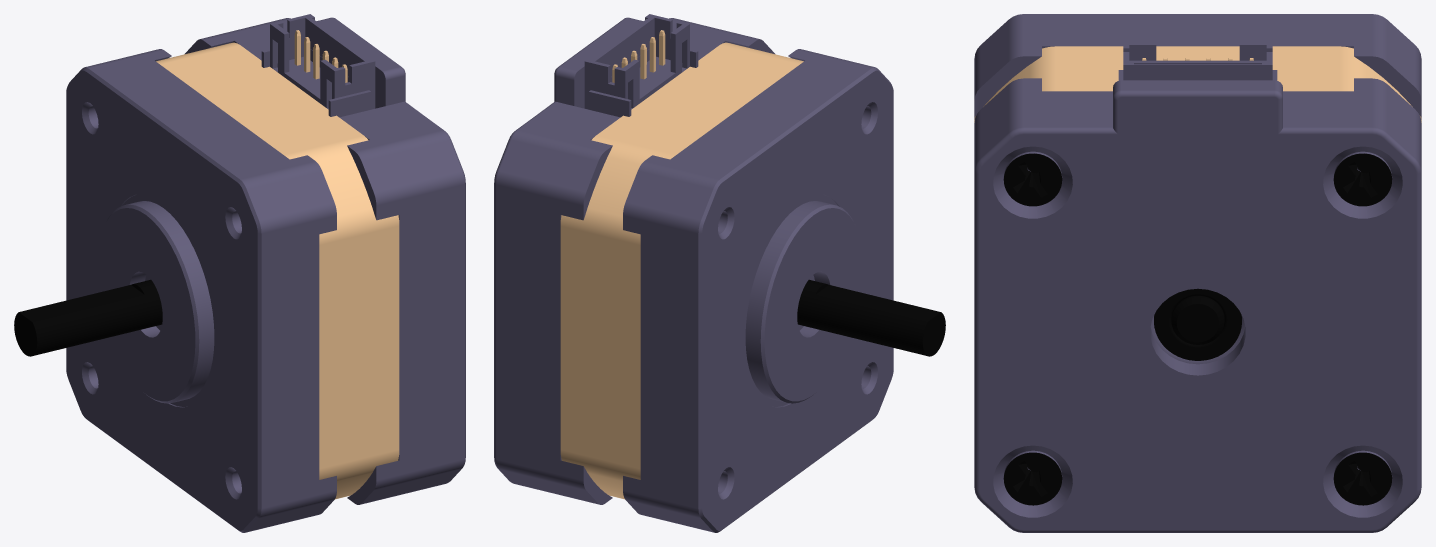
The model's file is Main_Nema17_Slim.dae.
The picture shows the model from 3 angles, left to right: view 1: azimuth 30°, elevation 25°; view 2: azimuth 150°, elevation 25°; view 3: azimuth 270°, elevation 25°; orthographic projection. The views are drawn at different scales.
Visible parts, largest first — view 1: Main_Nema17_Slim; view 2: Main_Nema17_Slim; view 3: Main_Nema17_Slim.
Boxes of the visible parts, box(x1,y1,x2,y2) form: Main_Nema17_Slim: box(14, 14, 465, 532); Main_Nema17_Slim: box(494, 14, 945, 532); Main_Nema17_Slim: box(974, 14, 1421, 532).
Size of the model in its own units: 0.043 by 0.042 by 0.0471.
